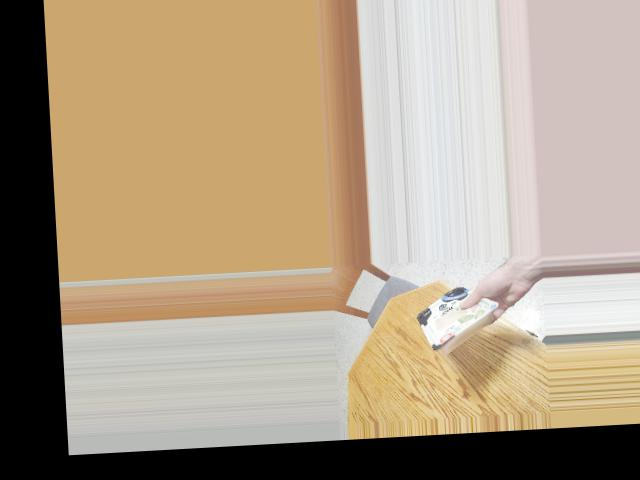cheese: (410, 283, 495, 368)
